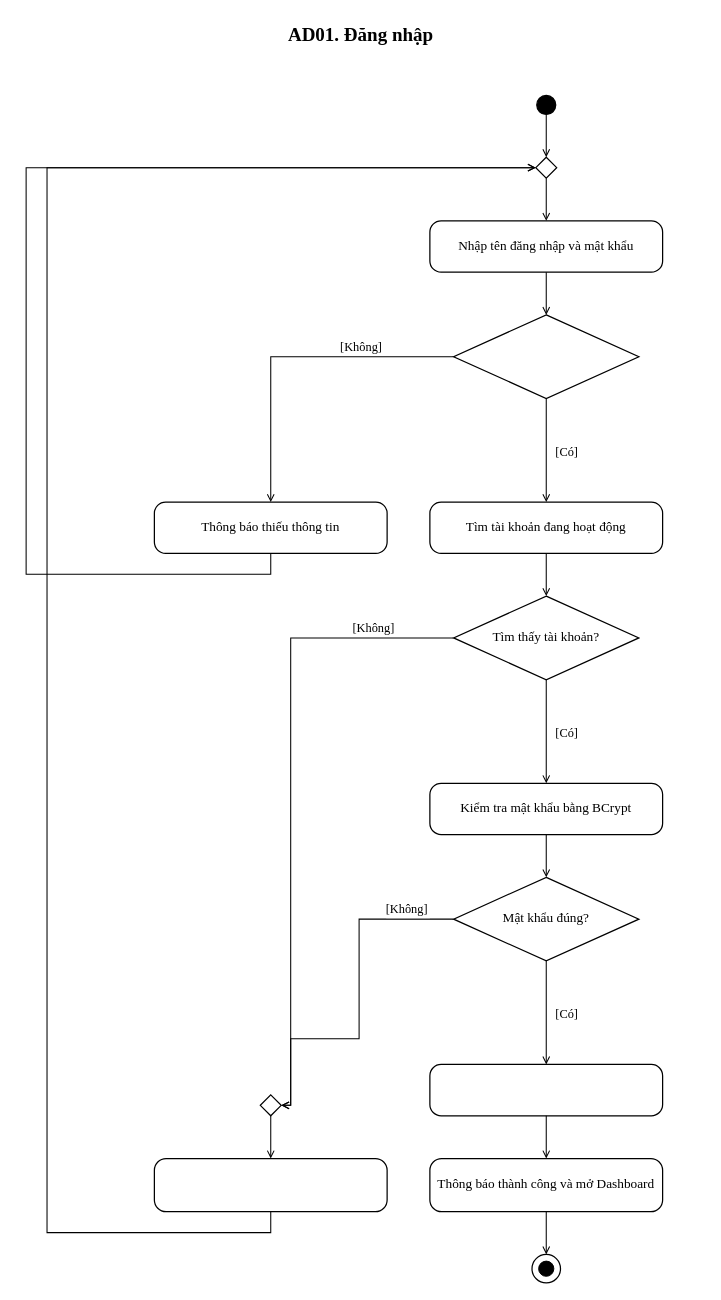
Some shapes in this 721 by 1300 pixel diagram are drawn without their labels. The shapes that lost their labels are listed below. From the top down, each one's box as (x1, y1, x2, y2) in pixels, then its label:
(453, 314, 639, 399): Đã nhập đủ thông tin?
(429, 1063, 663, 1116): Lưu tài khoản vào phiên làm việc
(153, 1157, 387, 1212): Thông báo sai thông tin đăng nhập
